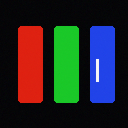4 line_v: (96, 59, 98, 81)
